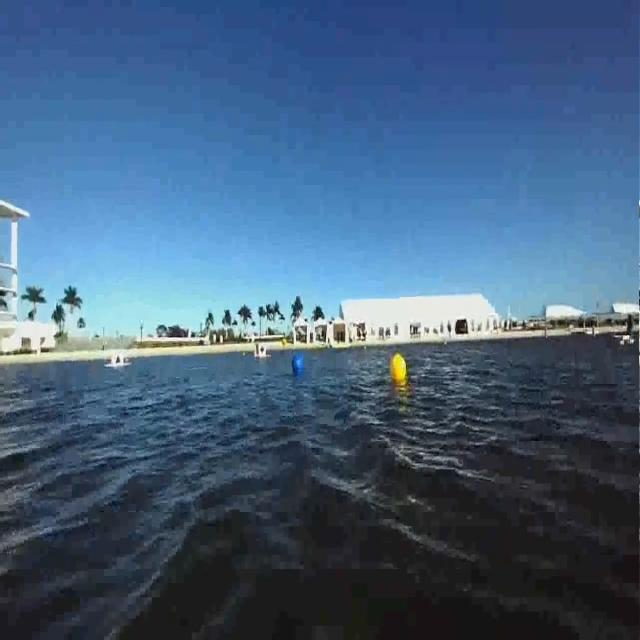blue-buoy: (289, 342, 306, 382)
yellow-buoy: (385, 348, 411, 389)
